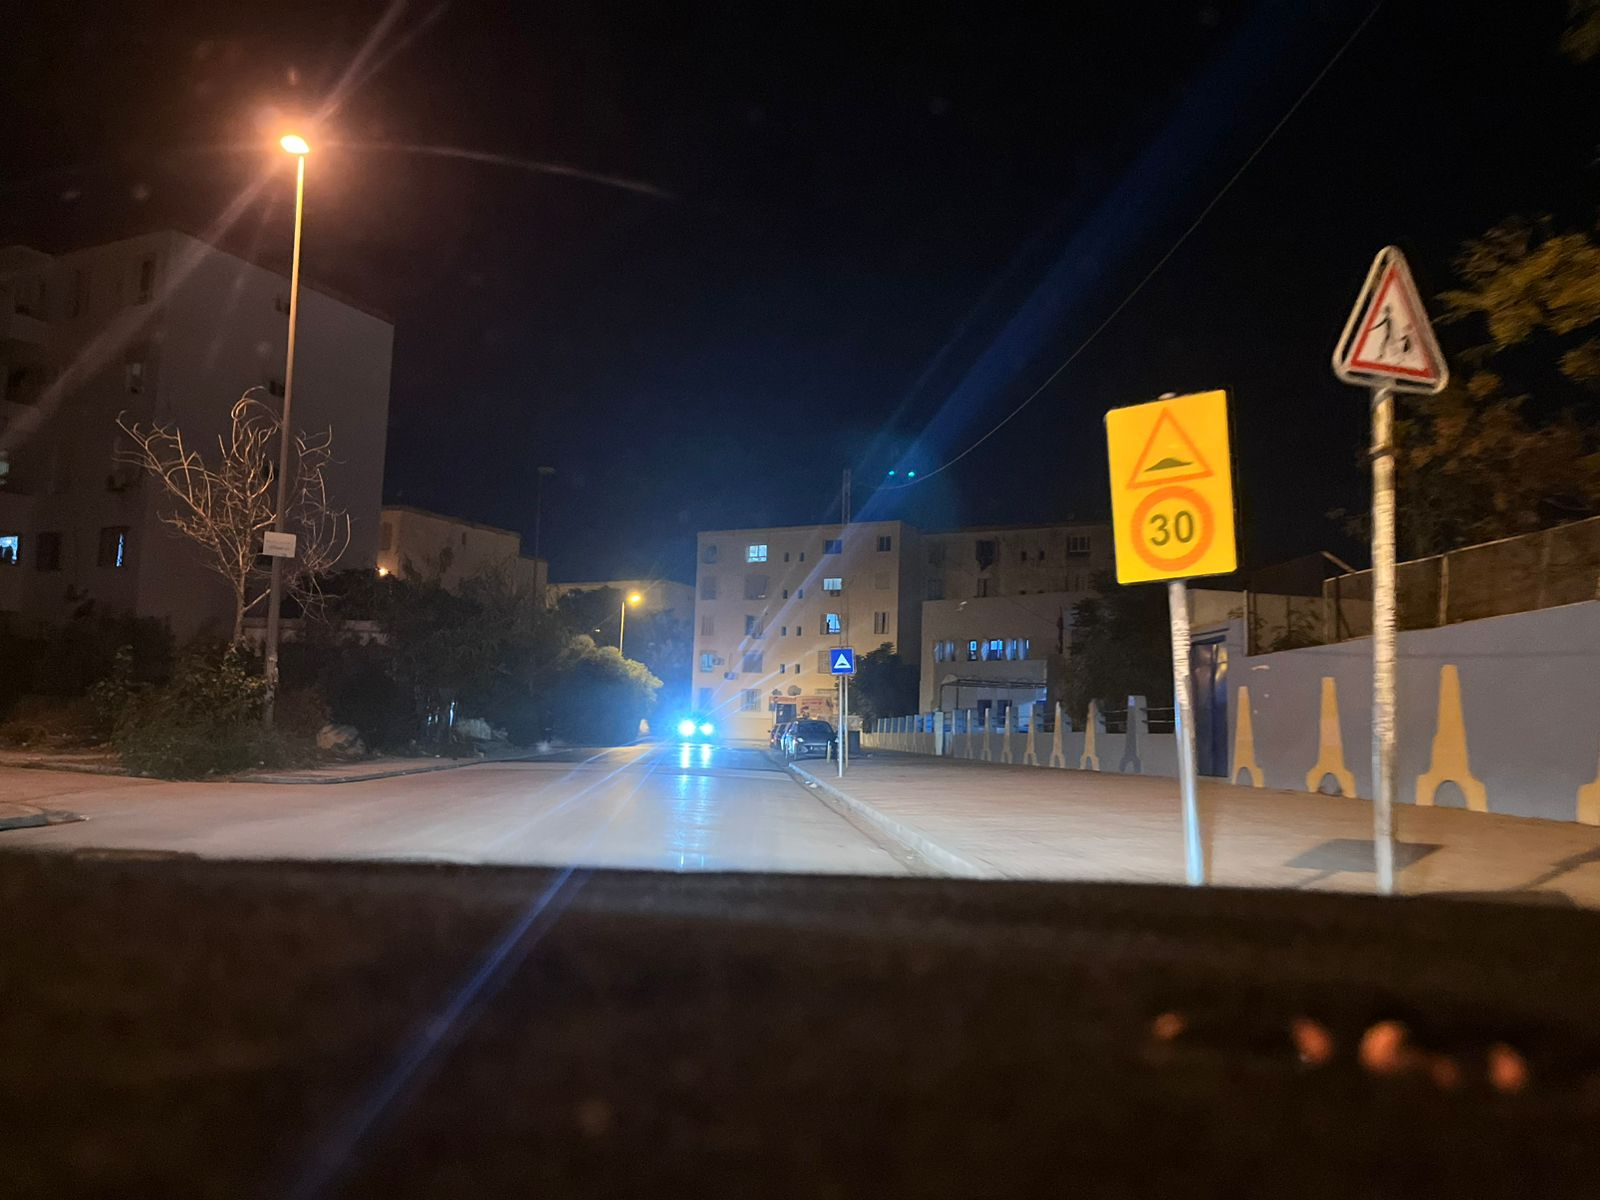SpeedLimit30: (1103, 387, 1241, 586)
